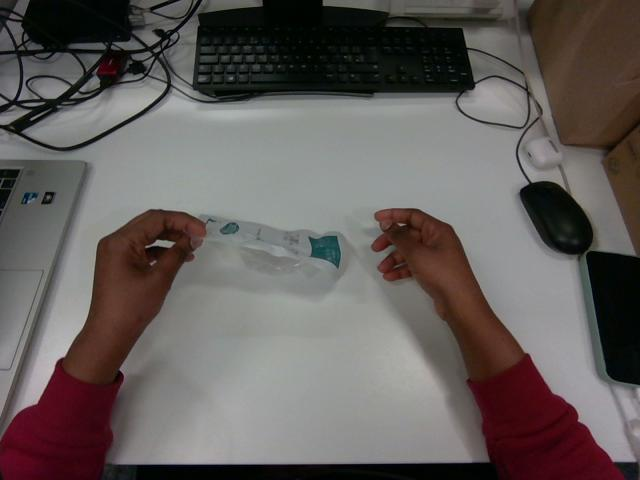gallipot: (199, 215, 346, 279)
